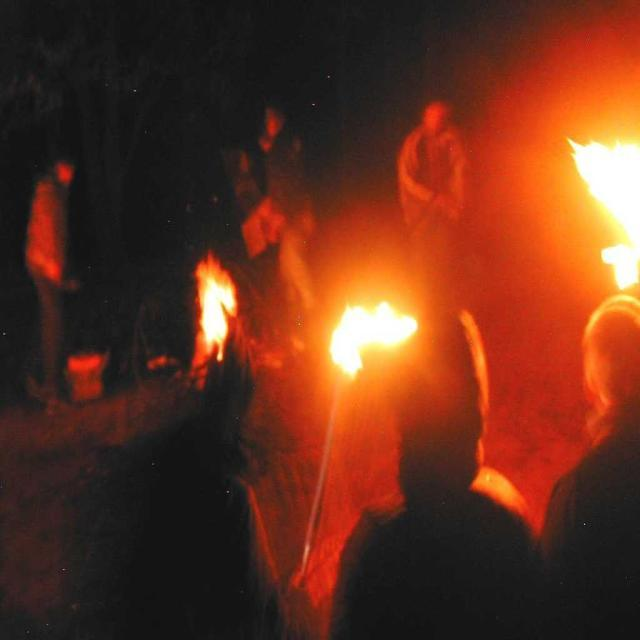Fire: (598, 146, 636, 264), (333, 302, 402, 356), (198, 280, 232, 352)
